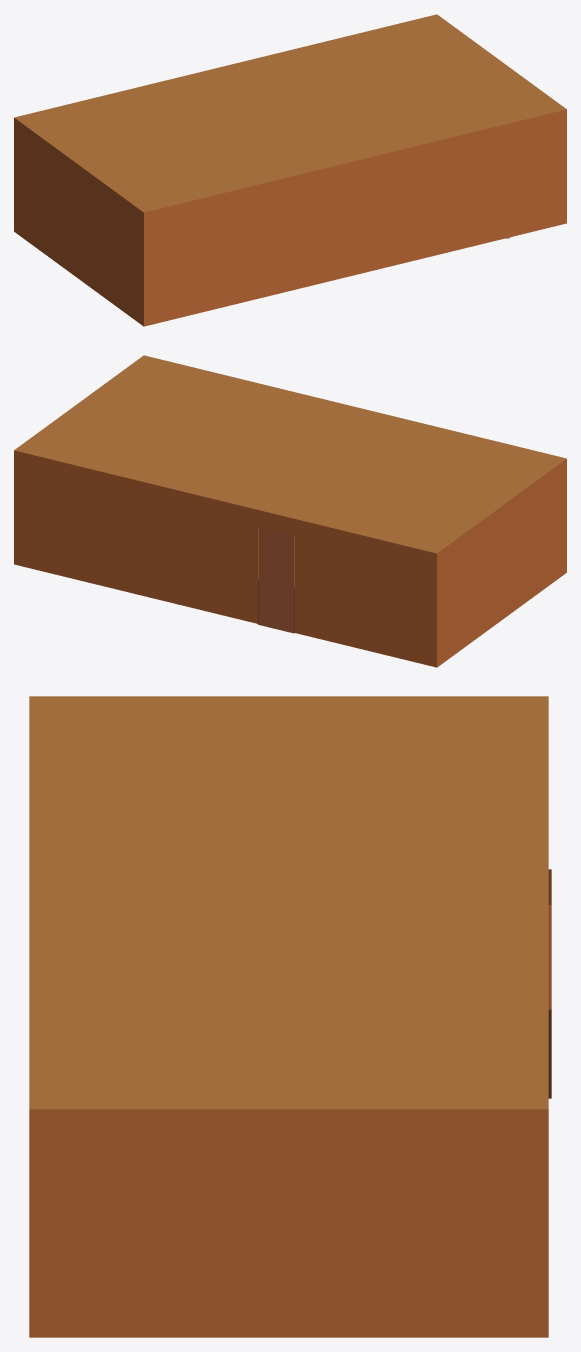
The model's file is room_2.glb.
3 renders of one model, top to bottom at view 1: azimuth 30°, elevation 25°; view 2: azimuth 150°, elevation 25°; view 3: azimuth 270°, elevation 25°, orthographic. The views are drawn at different scales.
Parts seen in each view (by area): view 1: komnata_2; view 2: komnata_2; view 3: komnata_2.
Boxes of the visible parts, <box> form: komnata_2: <box>14,14,566,326</box>; komnata_2: <box>14,355,566,667</box>; komnata_2: <box>29,696,551,1337</box>.
Size of what is drawn, in the model's own units: 9.67 by 2.53 by 5.17.
Materials: 1 (1 with a texture image).
